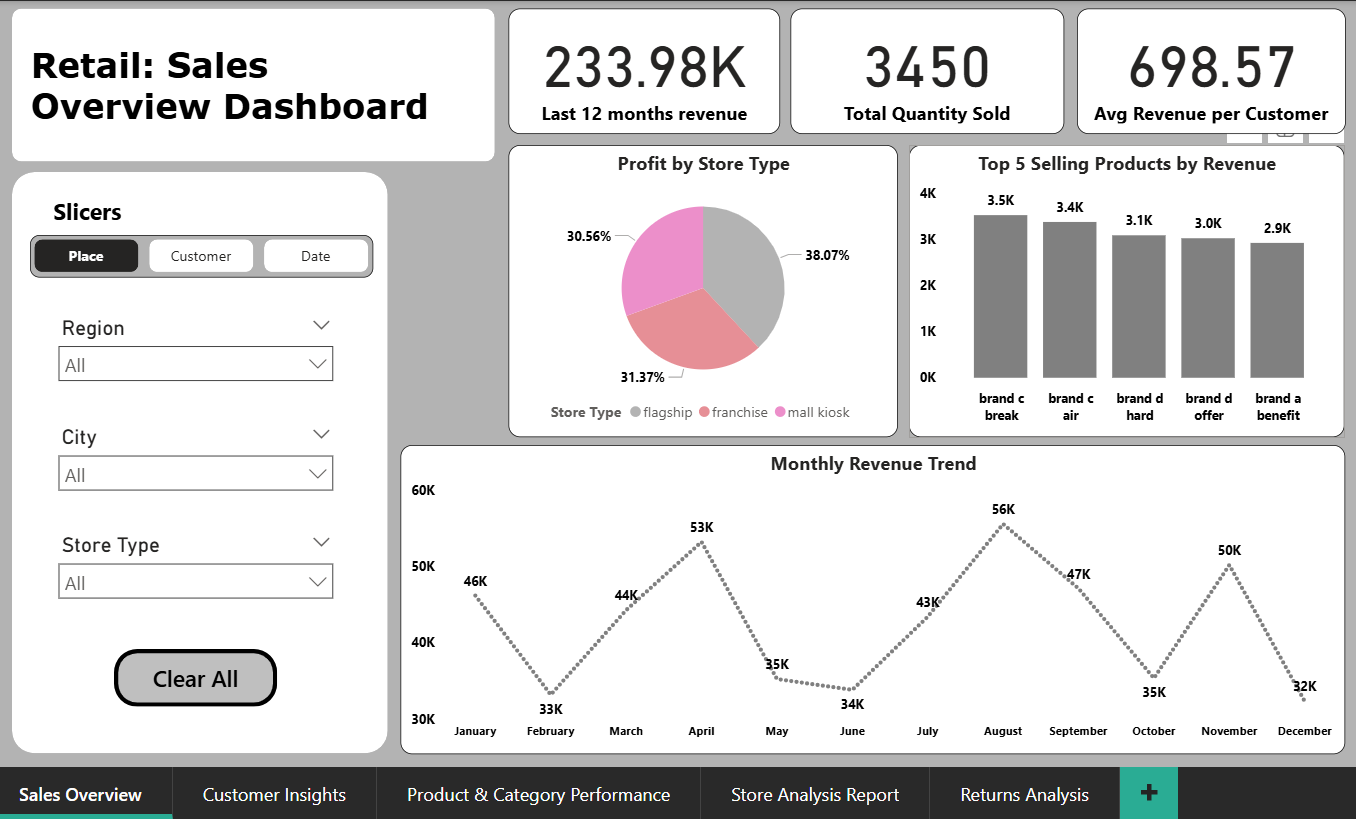

The page's visual inventory and layout, read from the dashboard file:
{"tool":"powerbi","page":{"name":"Sales Overview","canvas":[1280,720],"ordinal":0},"visuals":[{"type":"shape","box":[14.4,161.4,353.1,546.4],"z":0},{"type":"slicer","title":"Region","fields":{"Values":["retail_store stores.region"]},"box":[47.9,290.8,278,86.3],"z":0,"group":"g1"},{"type":"shape","box":[14.4,6.4,453.7,143.8],"z":1000},{"type":"slicer","title":"Store Type","fields":{"Values":["retail_store stores.store_type"]},"box":[47.9,495.3,278,86.3],"z":1000,"group":"g1"},{"type":"textbox","box":[27.2,35.1,426.6,87.9],"z":2000},{"type":"group","id":"g1","title":"Place","box":[47.9,290.8,278,290.8],"z":2000,"group":"g2"},{"type":"slicer","title":"City","fields":{"Values":["retail_store stores.city"]},"box":[47.9,393.1,278,86.3],"z":2000,"group":"g1"},{"type":"group","id":"g2","title":"Slicers","box":[47.9,287.6,278,294],"z":3000},{"type":"bookmarkNavigator","box":[30.4,220.5,322.7,39.9],"z":4000},{"type":"actionButton","title":"Clear All","box":[110.2,608.7,153.4,54.3],"z":5000},{"type":"textbox","box":[47.9,177.3,86.3,43.1],"z":6000},{"type":"card","fields":{"Values":["retail_store customers.Total Quantity"]},"box":[746.1,6.4,257.2,118.2],"z":8000},{"type":"lineChart","title":"Monthly Revenue Trend","fields":{"Y":["retail_store customers.Total Revenue"],"Category":["retail_store customers.signup_date.Variation.Date Hierarchy.Month"]},"box":[378.6,417,888.3,290.8],"z":10000},{"type":"columnChart","title":"Top 5 Selling Products by Revenue","fields":{"Y":["retail_store customers.Total Revenue"],"Category":["retail_store products.product_name"]},"box":[857.9,135.8,409,274.8],"z":11000},{"type":"pieChart","title":"Profit by Store Type","fields":{"Category":["retail_store stores.store_type"],"Y":["retail_store customers.Total Profit"]},"box":[480.9,135.8,365.9,274.8],"z":12000},{"type":"card","fields":{"Values":["retail_store sales.Total Revenue Last 12 Months"]},"box":[480.9,6.4,255.6,118.2],"z":13000},{"type":"card","fields":{"Values":["retail_store customers.Avg Revenue per Customer"]},"box":[1014.5,6.4,252.4,118.2],"z":14000}]}

Visuals, with their boxes on the page's 1280x720 design canvas (x1, y1, x2, y2). These are canvas units, not pixel positions in the 1356x819 screenshot, which may show the page scaled, cropped or inside an application window:
shape: left=14, top=161, right=368, bottom=708
"Region" slicer: left=48, top=291, right=326, bottom=377
shape: left=14, top=6, right=468, bottom=150
"Store Type" slicer: left=48, top=495, right=326, bottom=582
textbox: left=27, top=35, right=454, bottom=123
"Place" group: left=48, top=291, right=326, bottom=582
"City" slicer: left=48, top=393, right=326, bottom=479
"Slicers" group: left=48, top=288, right=326, bottom=582
bookmarkNavigator: left=30, top=220, right=353, bottom=260
"Clear All" actionButton: left=110, top=609, right=264, bottom=663
textbox: left=48, top=177, right=134, bottom=220
card - retail_store customers.Total Quantity: left=746, top=6, right=1003, bottom=125
"Monthly Revenue Trend" lineChart: left=379, top=417, right=1267, bottom=708
"Top 5 Selling Products by Revenue" columnChart: left=858, top=136, right=1267, bottom=411
"Profit by Store Type" pieChart: left=481, top=136, right=847, bottom=411
card - retail_store sales.Total Revenue Last 12 Months: left=481, top=6, right=736, bottom=125
card - retail_store customers.Avg Revenue per Customer: left=1014, top=6, right=1267, bottom=125
